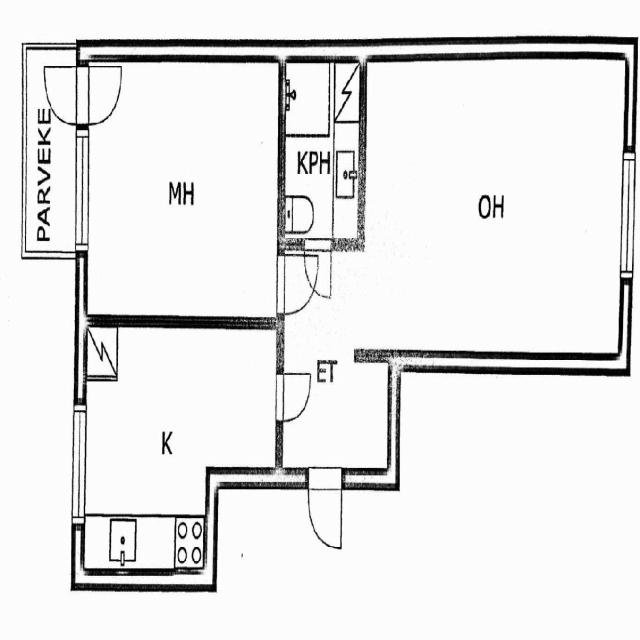door: (308, 468, 342, 548), (41, 66, 87, 125), (75, 66, 120, 125), (276, 255, 317, 313), (276, 373, 311, 421), (304, 238, 331, 298)
